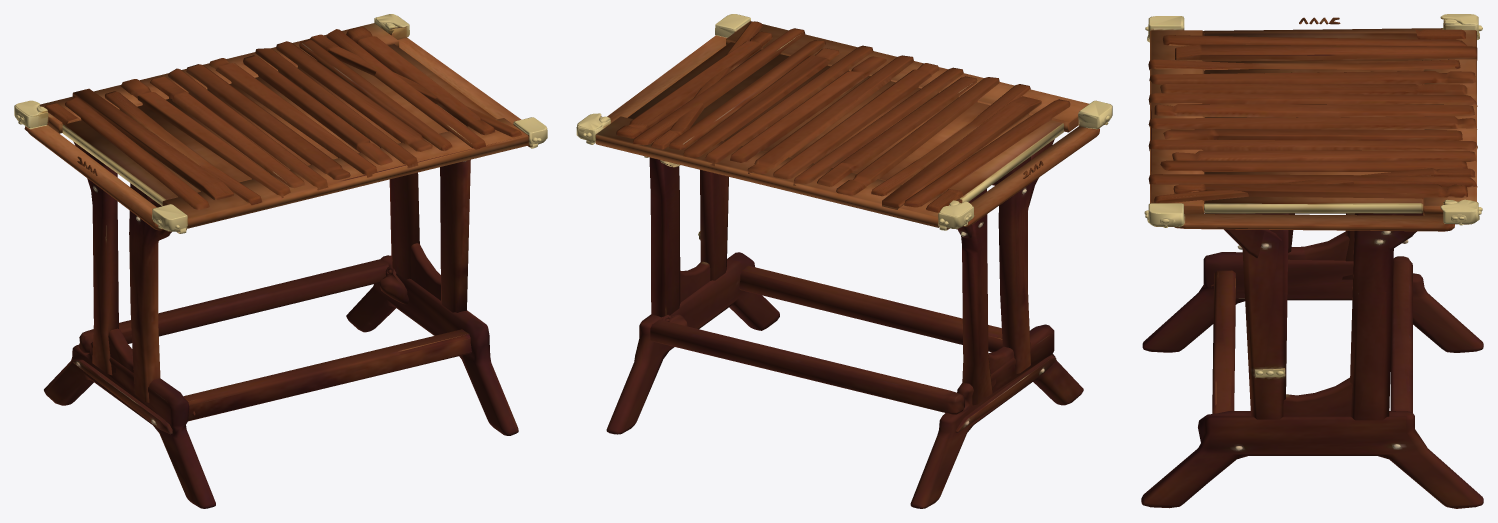
File: luggage-table.glb
3 renders of one model, left to right at view 1: azimuth 30°, elevation 25°; view 2: azimuth 150°, elevation 25°; view 3: azimuth 270°, elevation 25°, orthographic. The views are drawn at different scales.
Parts seen in each view (by area): view 1: tripo_node_34485539-96e0-455f-a67d-0cc86c314d76; view 2: tripo_node_34485539-96e0-455f-a67d-0cc86c314d76; view 3: tripo_node_34485539-96e0-455f-a67d-0cc86c314d76.
Boxes of the visible parts, <box> form: tripo_node_34485539-96e0-455f-a67d-0cc86c314d76: <box>14,14,547,508</box>; tripo_node_34485539-96e0-455f-a67d-0cc86c314d76: <box>576,14,1112,508</box>; tripo_node_34485539-96e0-455f-a67d-0cc86c314d76: <box>1141,14,1483,508</box>.
Bounding box in the file's own units: 1.1 × 0.8213 × 0.8.
1 material, 1 textured.
